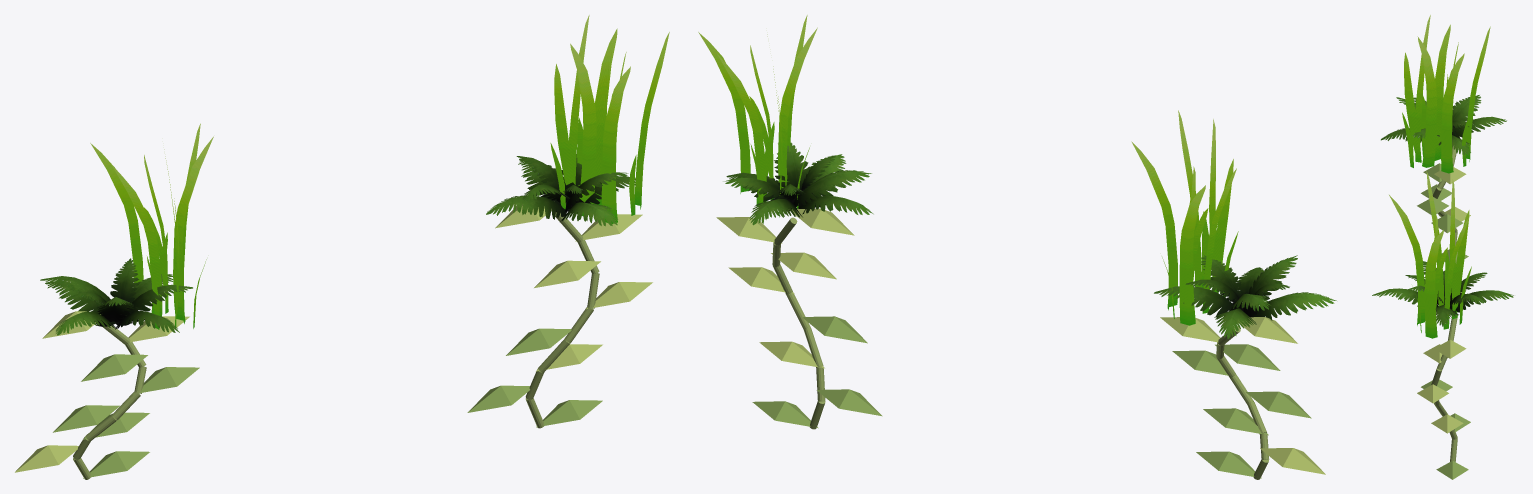
File: Broken_Pipe_Greenery.glb
3 views of the same model, side by side, from view 1: azimuth 30°, elevation 25°; view 2: azimuth 150°, elevation 25°; view 3: azimuth 270°, elevation 25° (orthographic). The views are drawn at different scales.
Parts seen in each view (by area): view 1: Patch_001, Patch_000; view 2: Patch_000, Patch_001; view 3: Patch_000, Patch_001.
Boxes of the visible parts, x1,y1,x2,y2 form: Patch_001: (467, 15, 669, 428); Patch_000: (15, 123, 213, 479); Patch_000: (1131, 110, 1336, 479); Patch_001: (698, 15, 882, 429); Patch_000: (1381, 15, 1506, 263); Patch_001: (1372, 171, 1513, 479).
Bounding box in the file's own units: 2.29 × 1.36 × 0.6012.
Materials: 5 (2 with a texture image).
